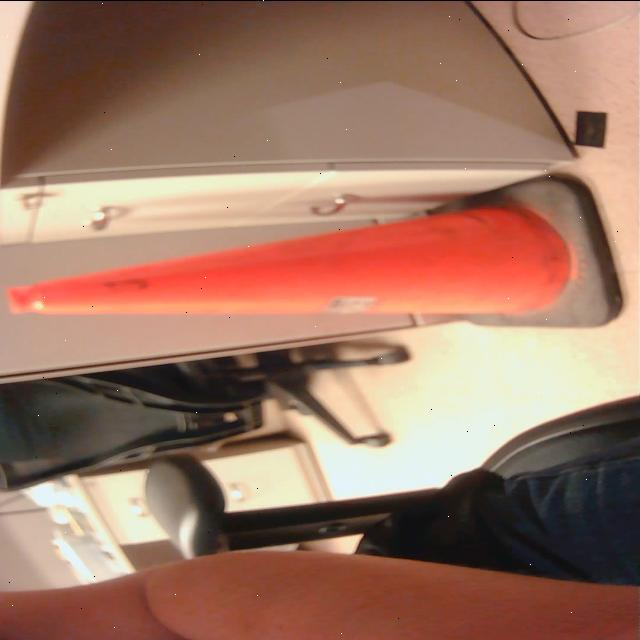traffic cone: (5, 168, 627, 336)
